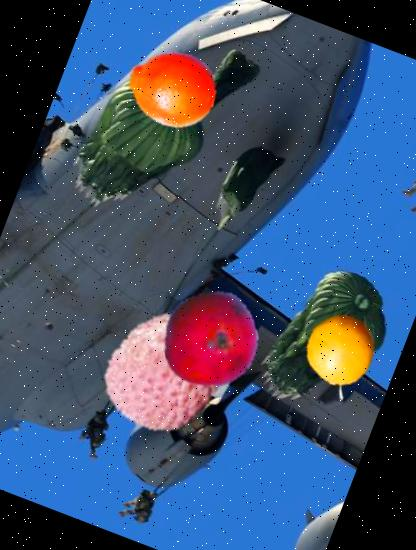Grapefruit: (294, 303, 386, 396)
Lychee: (81, 287, 250, 455)
Pomegranate: (148, 278, 272, 402)
Tangelo: (113, 31, 229, 148)
